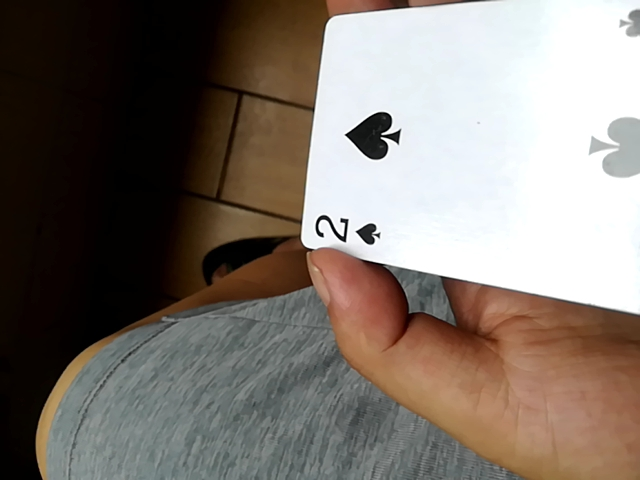ht 2: (298, 2, 639, 319)
